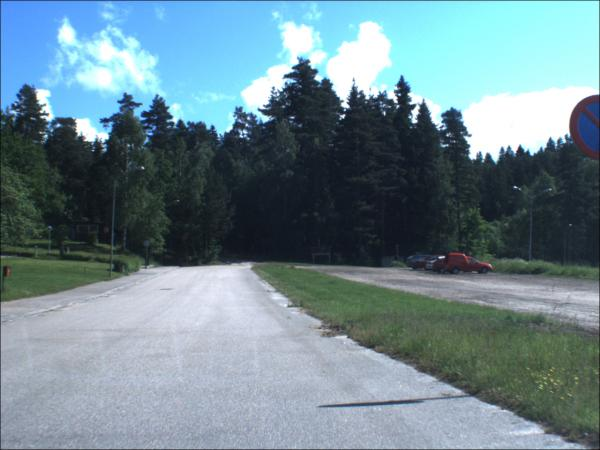NO_PARKING: (569, 96, 600, 164)
